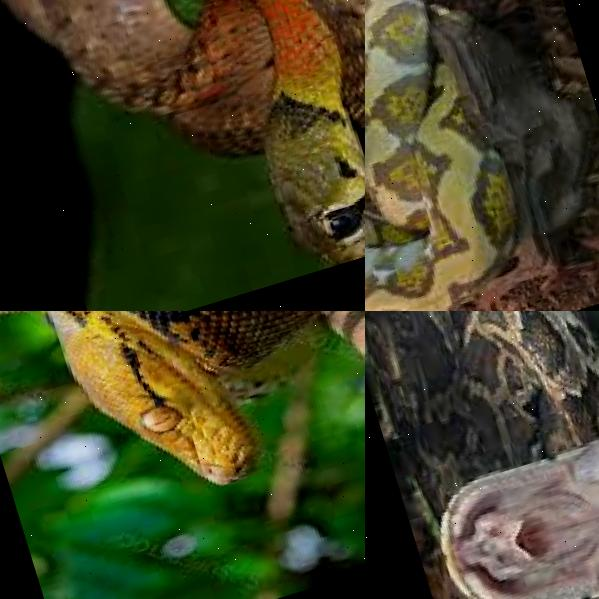snake: (0, 0, 365, 311), (0, 311, 365, 557), (365, 0, 599, 311), (365, 311, 599, 599)
